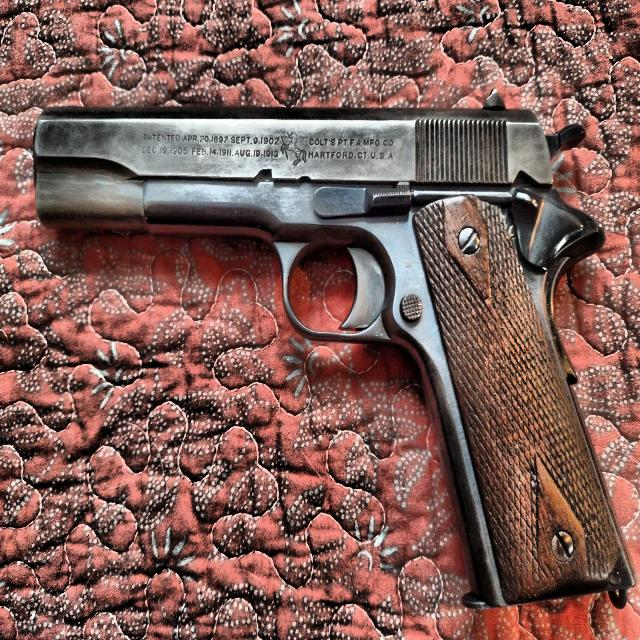Colt m1911: (31, 90, 635, 610)
